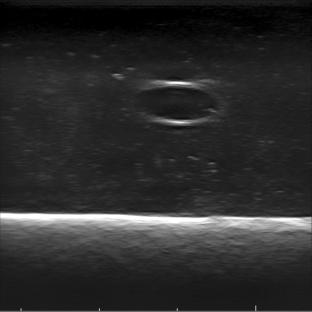vessel: (132, 80, 219, 126)
